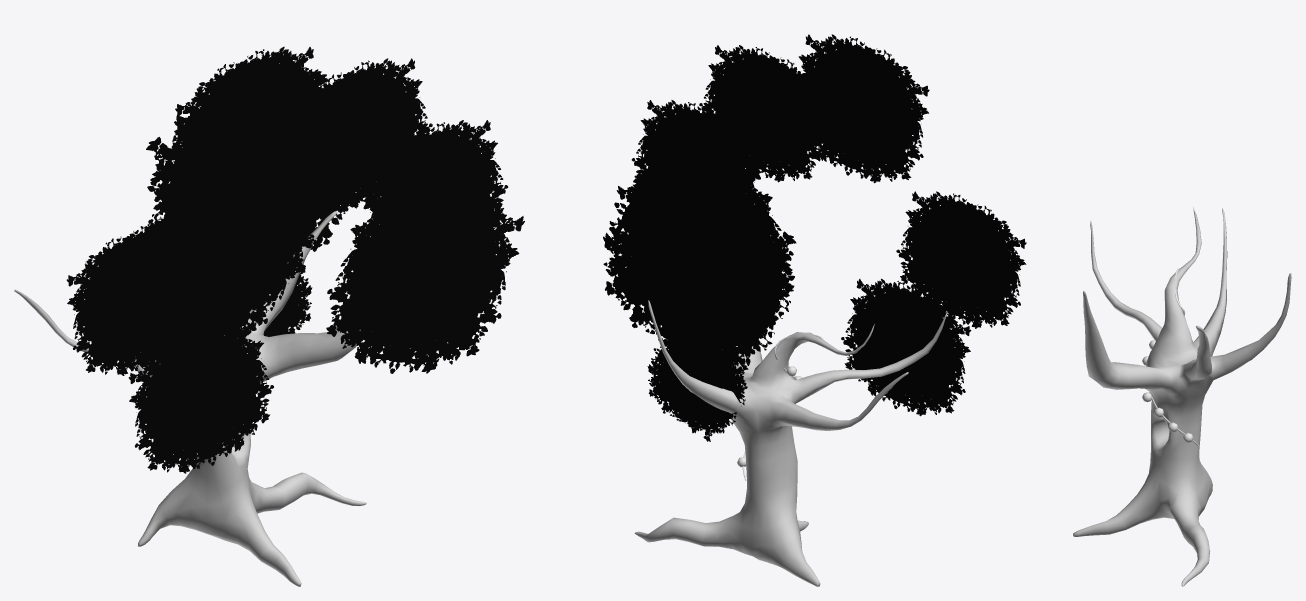
The model's file is tree.fbx.
3 renders of one model, left to right at view 1: azimuth 30°, elevation 25°; view 2: azimuth 150°, elevation 25°; view 3: azimuth 270°, elevation 25°, orthographic. The views are drawn at different scales.
Parts seen in each view (by area): view 1: tree_leaves, tree; view 2: tree_leaves, tree; view 3: tree, luminaria_arvore.
Part boxes in pixels (box(x1,y1,x2,y2)): tree_leaves: box(66, 46, 524, 473); tree: box(14, 211, 366, 586); tree_leaves: box(603, 34, 1026, 441); tree: box(634, 300, 947, 586); tree: box(1073, 207, 1291, 586); luminaria_arvore: box(1142, 268, 1198, 446).
Bounding box in the file's own units: 64.32 × 71.69 × 30.38.
